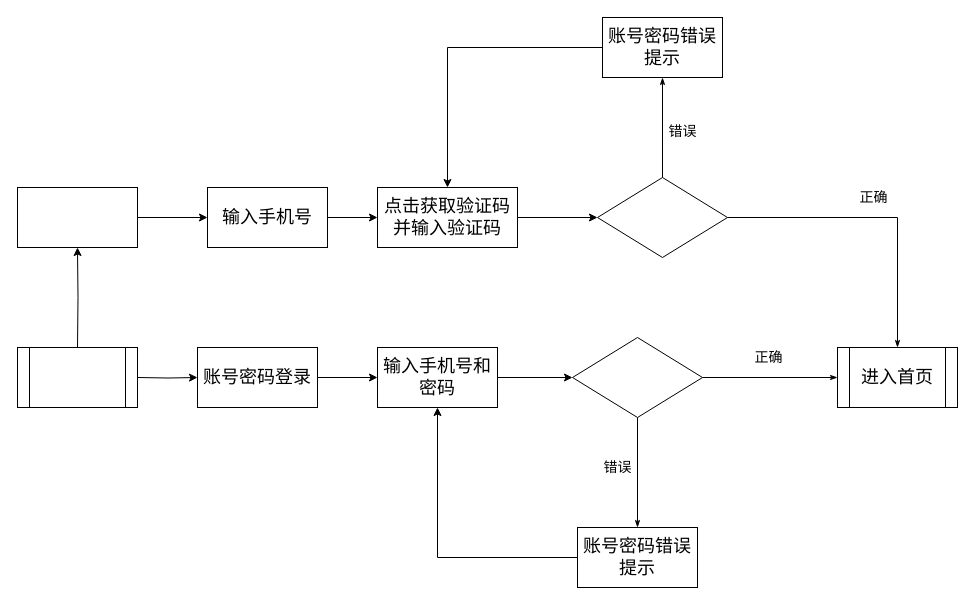
Some shapes in this 975 by 605 pixel diagram are drawn without their labels. Each missing label, with the box of its shape:
登录界面: (16, 346, 138, 408)
验证手机号和 验证码是否正确: (596, 176, 728, 258)
验证用户名和 密码是否正确: (572, 336, 702, 418)
验证码登录: (16, 186, 138, 248)
